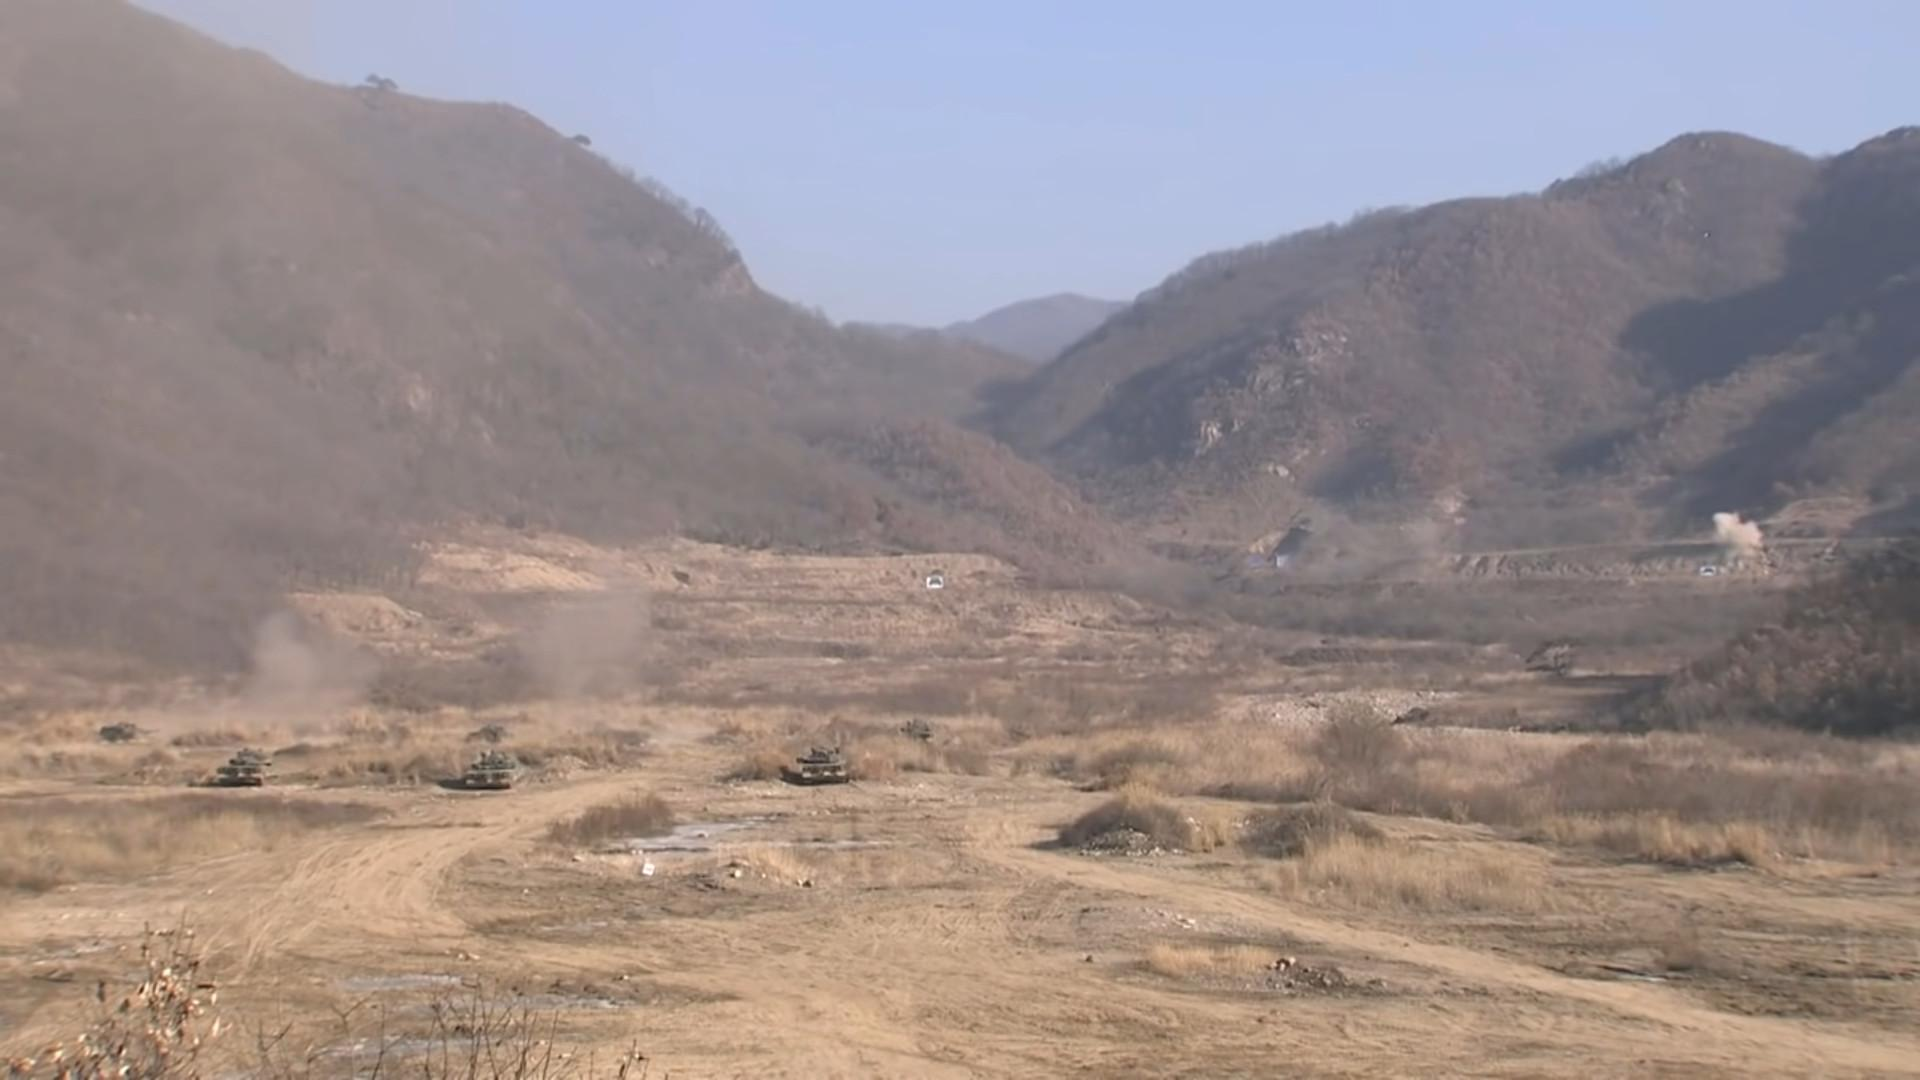tank: (464, 749, 527, 787), (215, 748, 274, 786), (795, 746, 851, 786)
